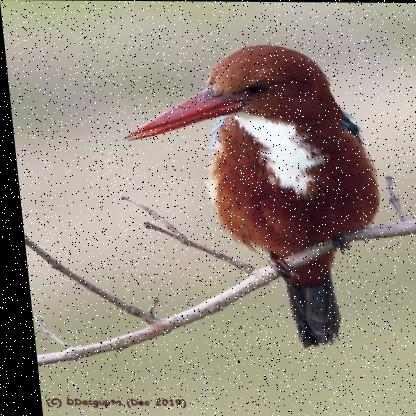Burung: (113, 42, 388, 348)
